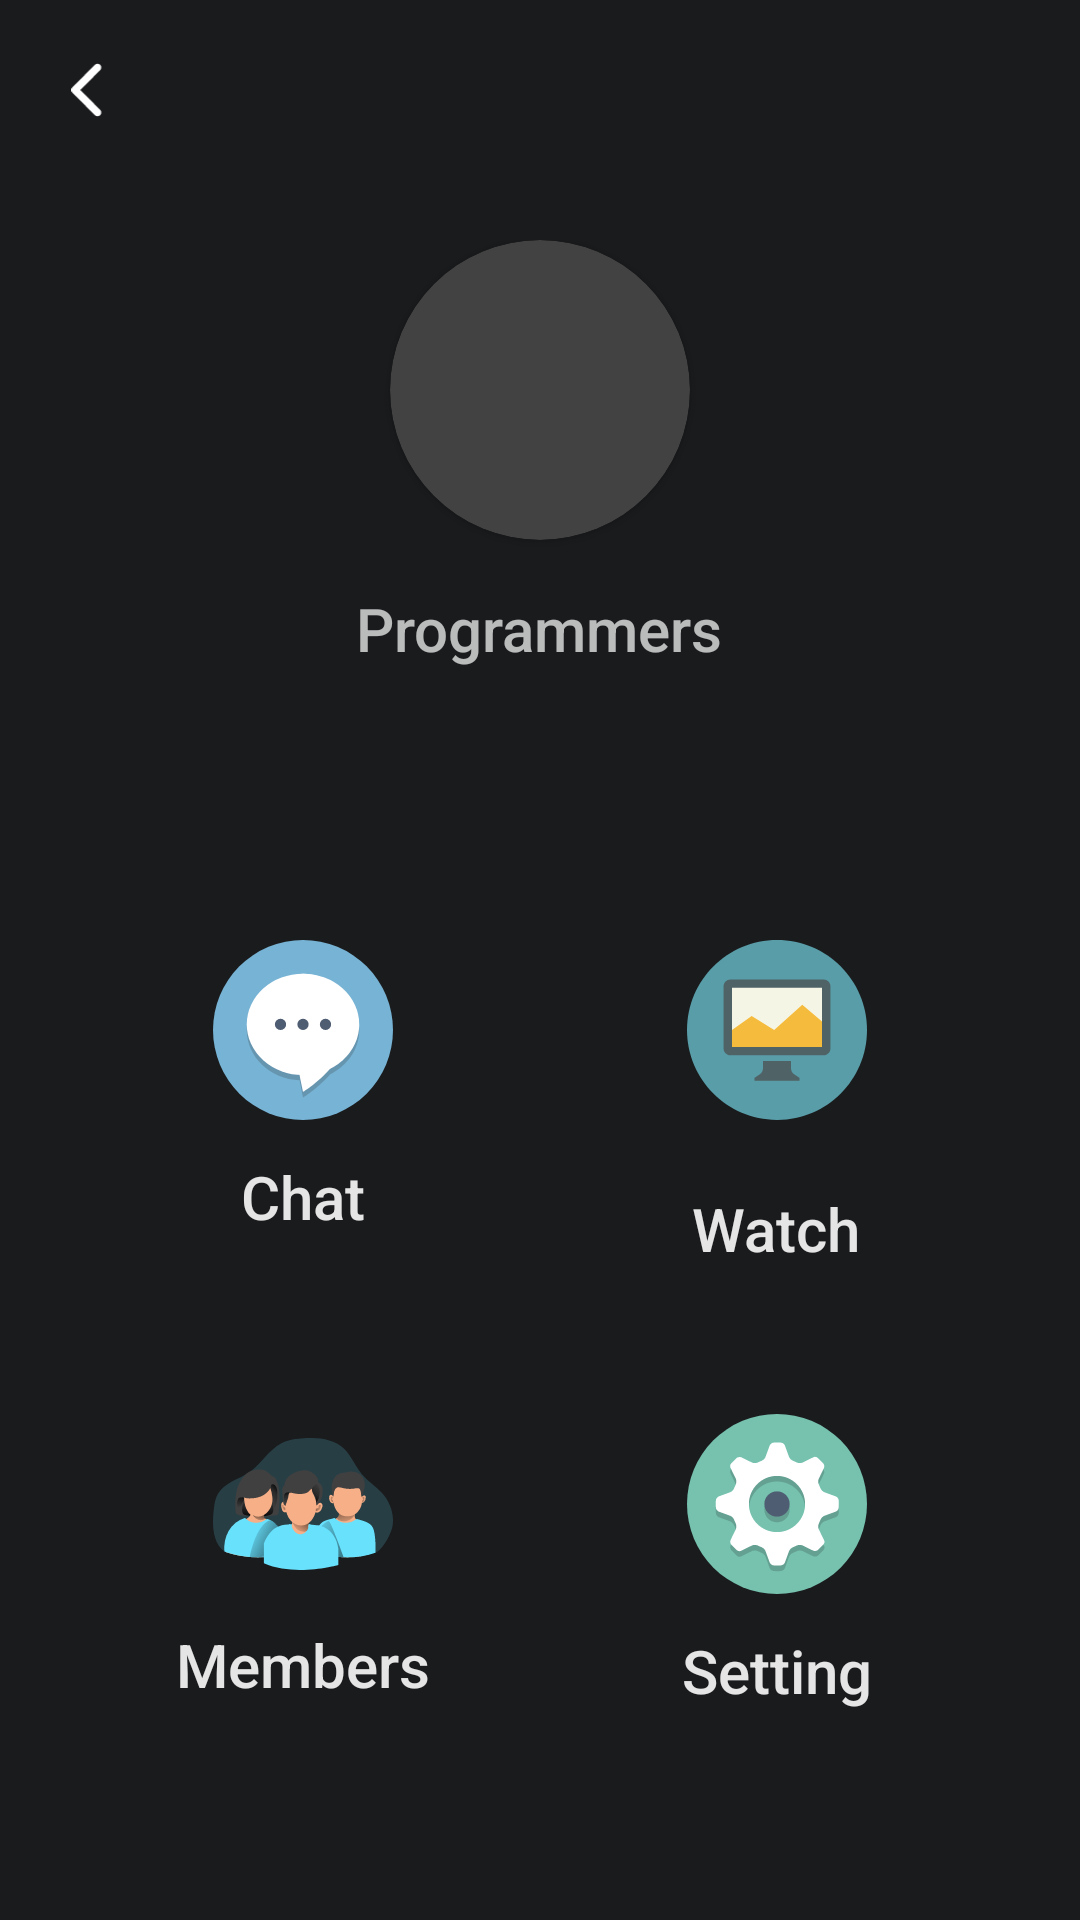

Point at icon controls on the screen. Image size 1080 × 1920, points as [x,y].
gear: [777,1504]
go back: [86,90]
monitor: [777,1030]
user group: [303,1504]
